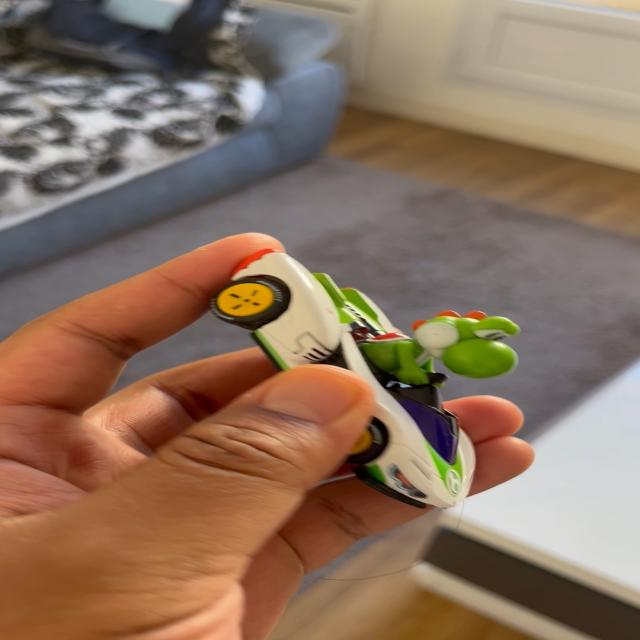yoshi: (192, 243, 541, 522)
